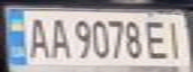0: (90, 16, 109, 60)
7: (106, 16, 127, 60)
8: (124, 17, 145, 60)
9: (69, 15, 93, 60)
A: (21, 13, 51, 60), (45, 15, 72, 60)
E: (142, 17, 172, 61)
I: (163, 17, 190, 61)
